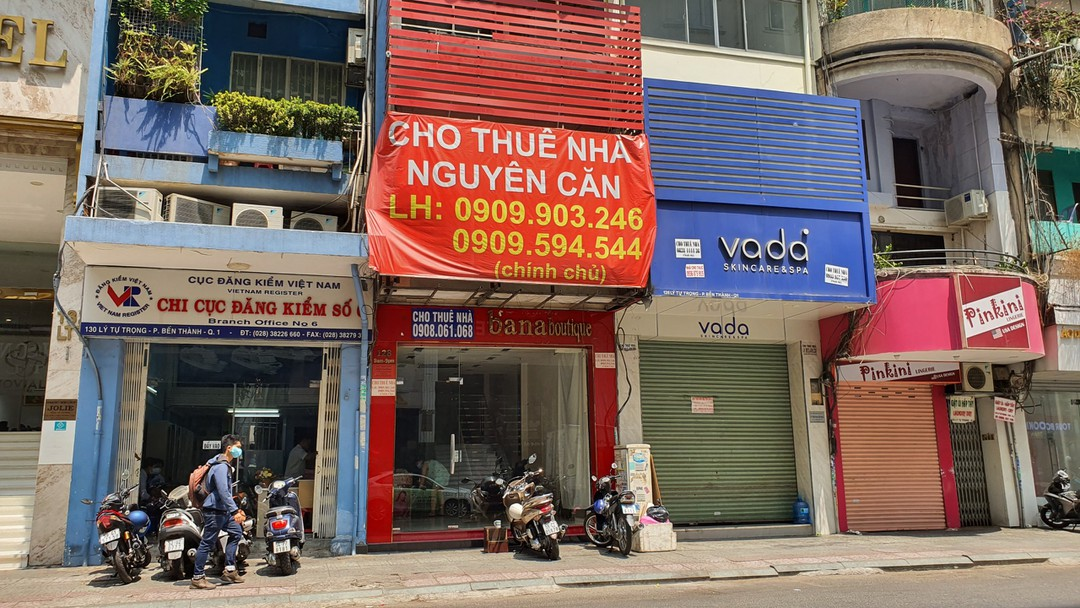banner: (379, 112, 650, 293), (76, 255, 376, 352), (669, 211, 874, 303), (393, 301, 608, 348), (946, 265, 1032, 355)
